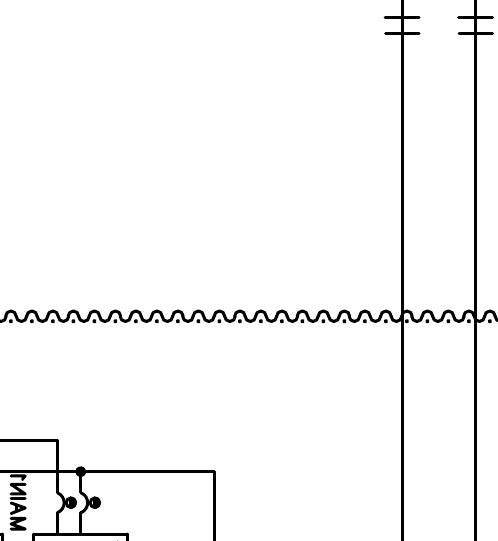115_buffer: (457, 16, 494, 35), (384, 16, 421, 35)
